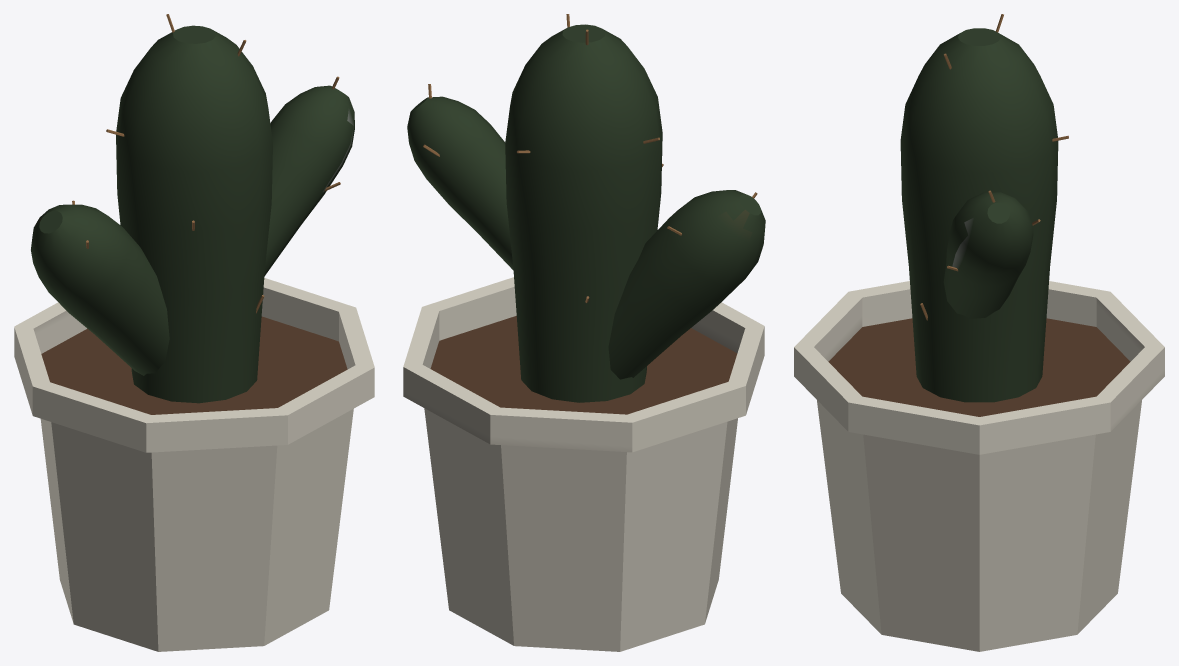
File: kaktus.fbx
The picture shows the model from 3 angles, left to right: view 1: azimuth 30°, elevation 25°; view 2: azimuth 150°, elevation 25°; view 3: azimuth 270°, elevation 25°; orthographic projection.
Visible parts, largest first — view 1: Cylinder.001; view 2: Cylinder.001; view 3: Cylinder.001.
Boxes of the visible parts, box(x1,y1,x2,y2) form: Cylinder.001: box(14, 14, 374, 651); Cylinder.001: box(403, 14, 765, 651); Cylinder.001: box(794, 14, 1164, 651).
Size of the model in its own units: 95.64 by 98.19 by 163.
